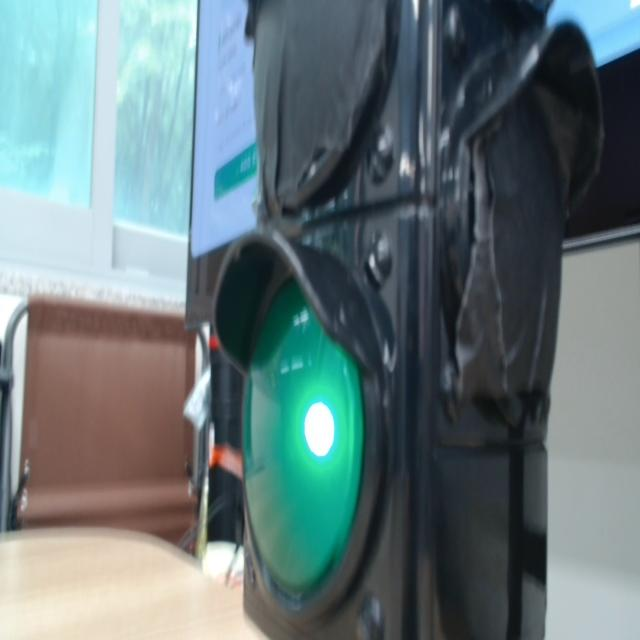green_light: (244, 281, 363, 593), (305, 403, 334, 457)
